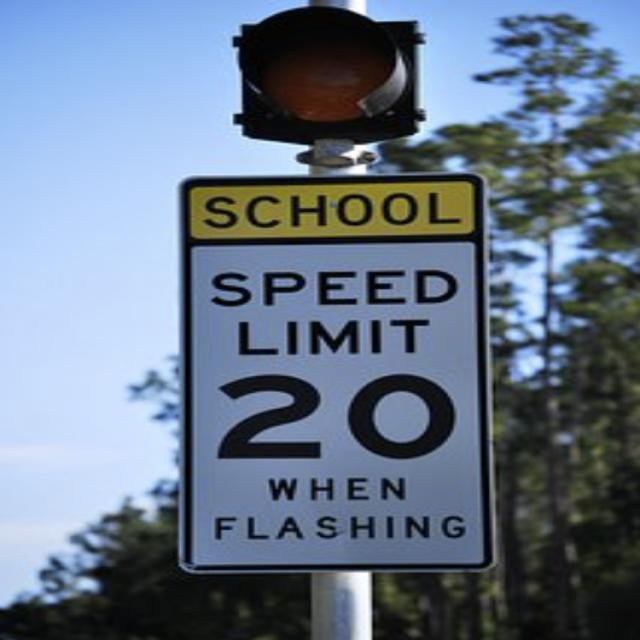speedLimit20: (192, 260, 480, 469)
